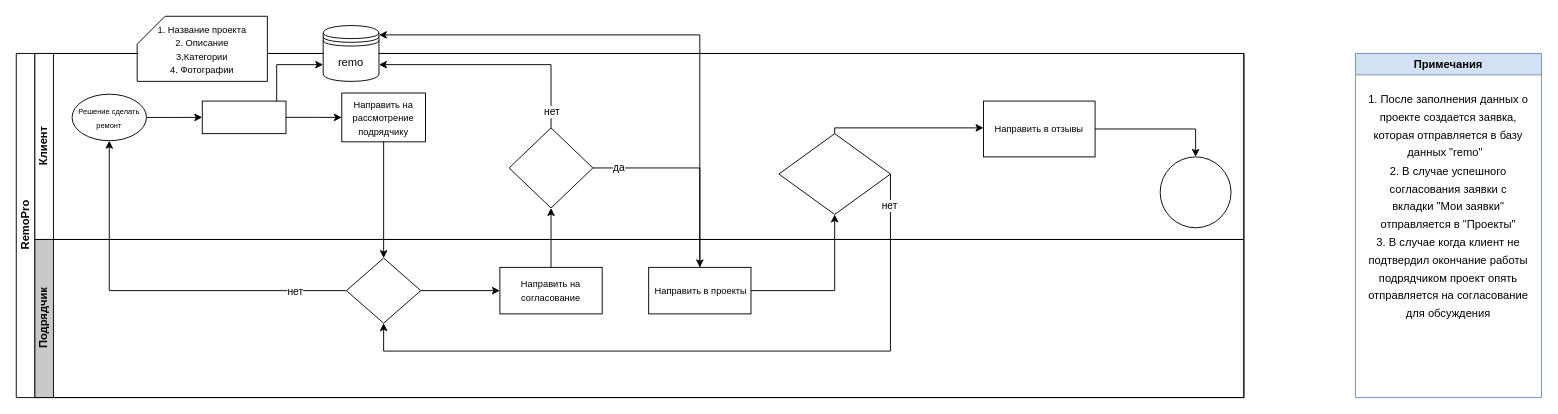
Image size: 1558x414. Some labels were removed from this diagram. The shapes that lost their labels are listed below. From the top down, each one's centre as x and y in pixels, then its label:
At [243,117]: "Создание заявки".
At [550,167]: "Согласовались".
At [834,173]: "Подтверждает выполнение".
At [1195,192]: "Заявка завершена".
At [383,290]: "Принимает заявку".
